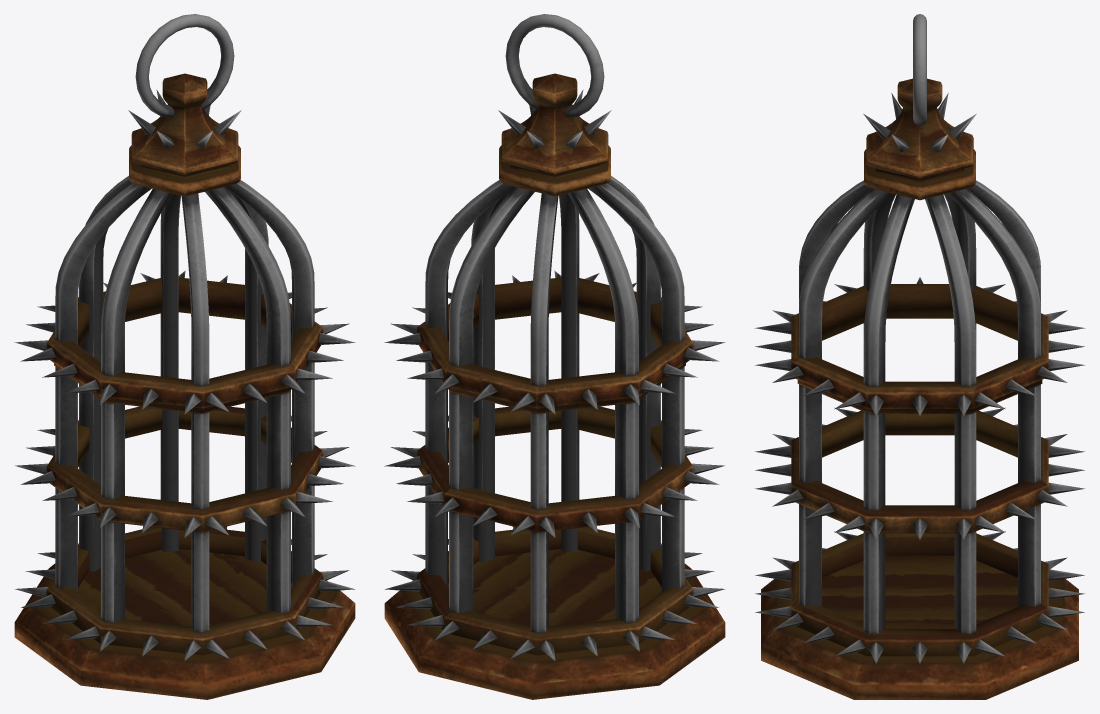
File: cage.glb
3 views of the same model, side by side, from view 1: azimuth 30°, elevation 25°; view 2: azimuth 150°, elevation 25°; view 3: azimuth 270°, elevation 25° (orthographic).
Parts seen in each view (by area): view 1: Cage_low; view 2: Cage_low; view 3: Cage_low.
Boxes of the visible parts, x1,y1,x2,y2 form: Cage_low: (14,14,355,699); Cage_low: (384,14,725,699); Cage_low: (754,14,1085,699).
Bounding box in the file's own units: 234 × 479 × 234.
1 material, 1 textured.
